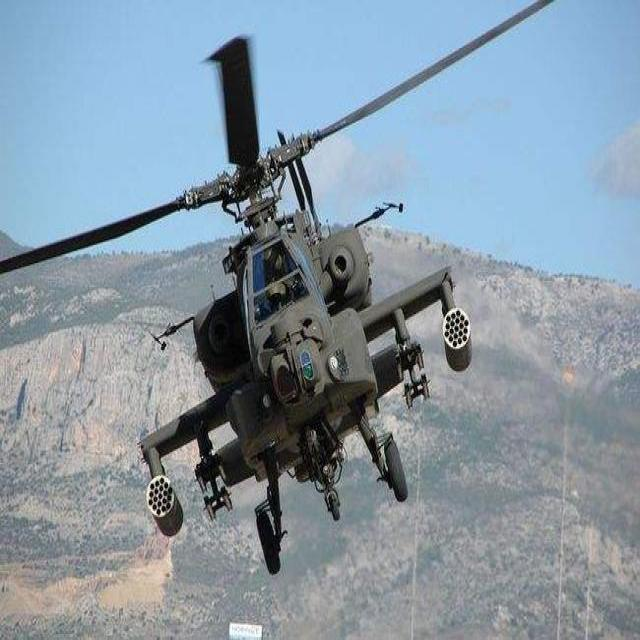MIL_HELO: (0, 0, 556, 577)
